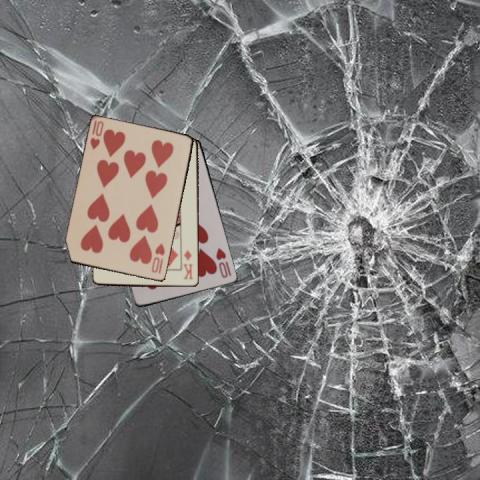10h: (213, 245, 233, 279), (148, 241, 166, 275), (88, 118, 106, 152)
Kd: (180, 247, 194, 281)
